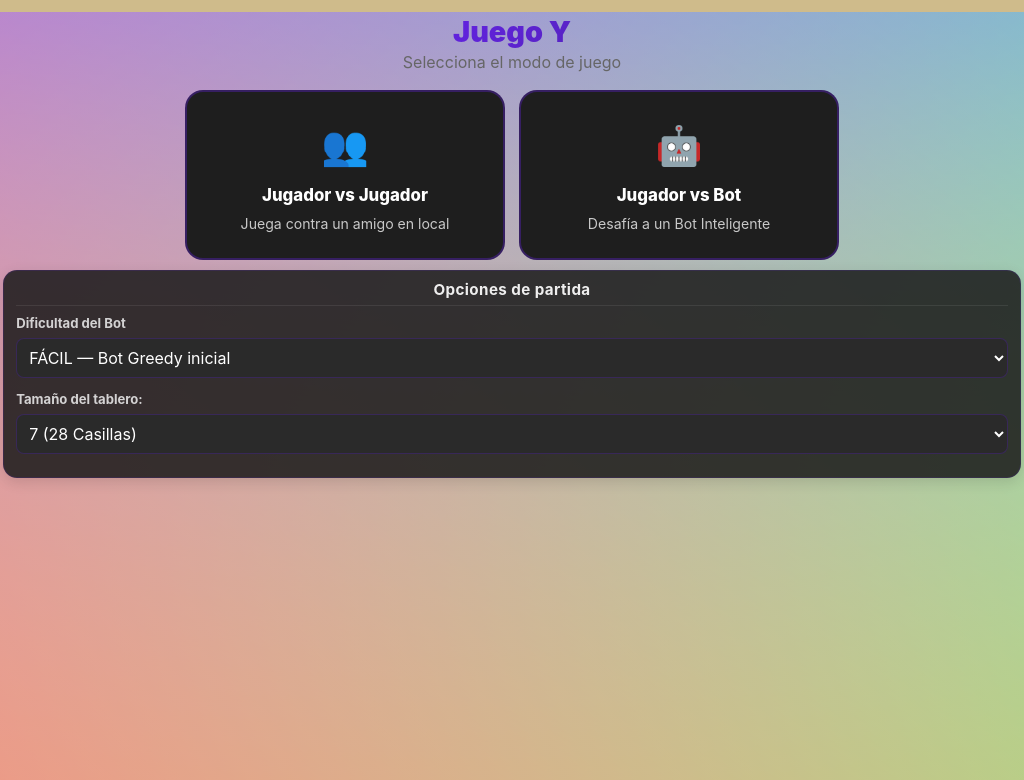
Test: GameBoard › handles server errors gracefully
Click the button "👥 Jugador vs Jugador Juega contra un amigo en local" at (345, 145), box [185,90,505,260]
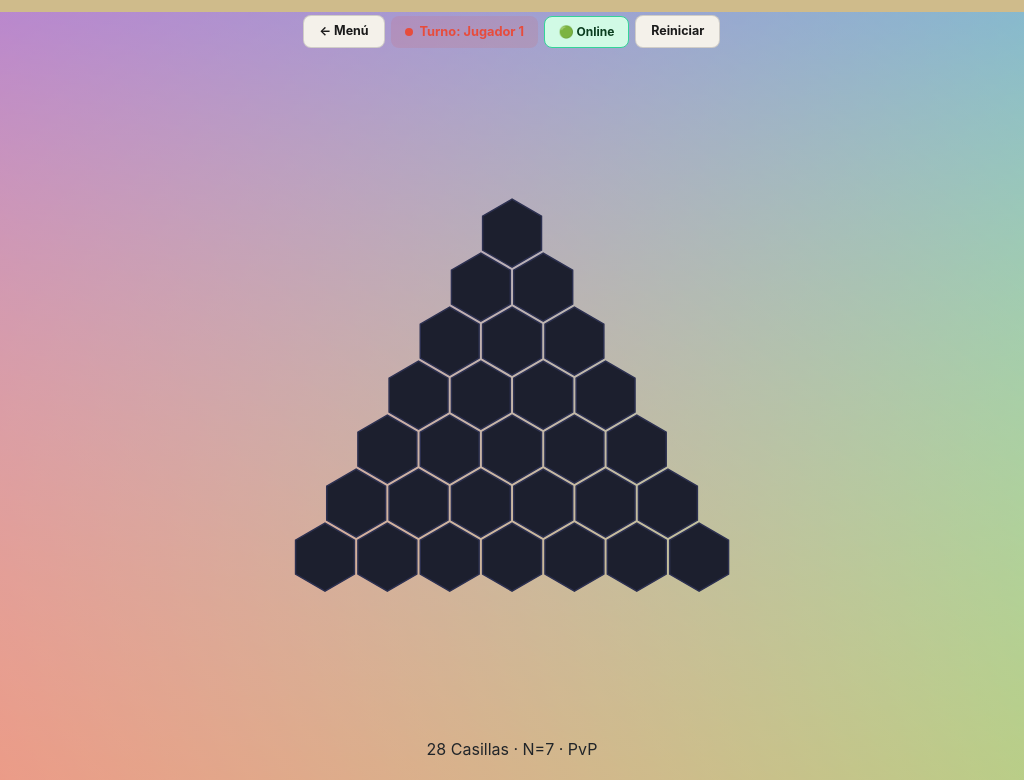
expect the text "🟢 Online" is shown: met, box [544,16,629,48]
